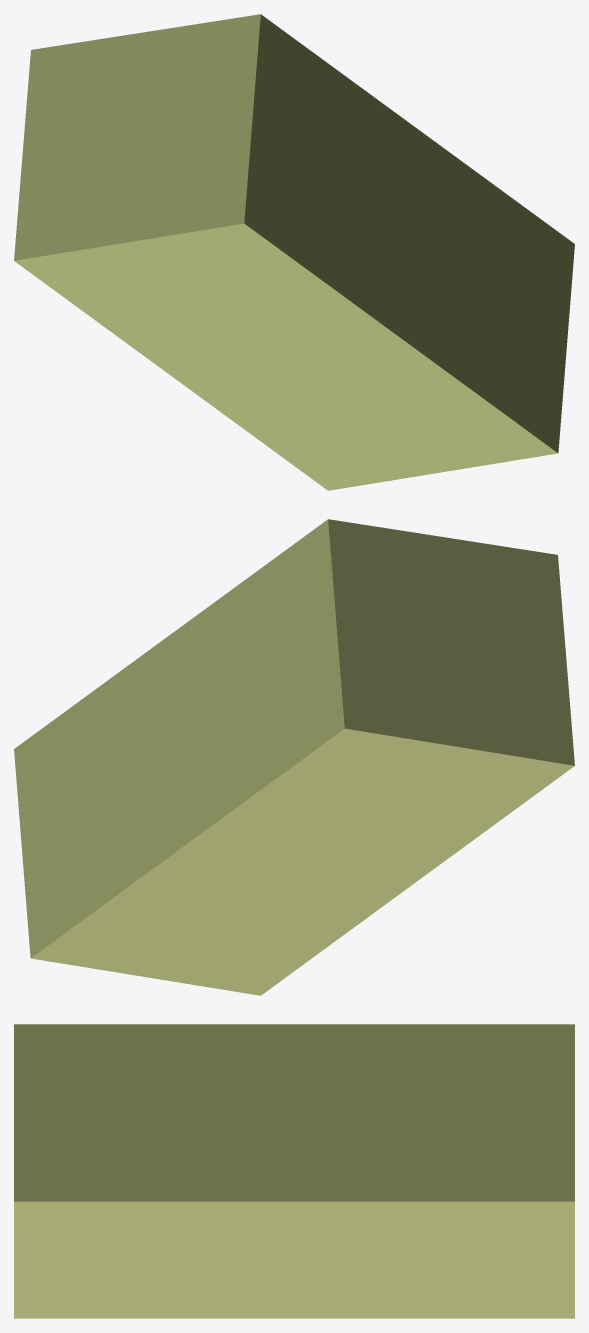
The picture shows the model from 3 angles, top to bottom: view 1: azimuth 30°, elevation 25°; view 2: azimuth 150°, elevation 25°; view 3: azimuth 270°, elevation 25°; orthographic projection. The views are drawn at different scales.
Visible parts, largest first — view 1: 0_1_3_2_2_1_0_2_0_2_1_2; view 2: 0_1_3_2_2_1_0_2_0_2_1_2; view 3: 0_1_3_2_2_1_0_2_0_2_1_2.
Part boxes in pixels (x1,y1,x2,y2): 0_1_3_2_2_1_0_2_0_2_1_2: (14, 14, 574, 490); 0_1_3_2_2_1_0_2_0_2_1_2: (14, 519, 574, 995); 0_1_3_2_2_1_0_2_0_2_1_2: (14, 1024, 574, 1318).
Size of the model in its own units: 4.08 by 3.57 by 9.
